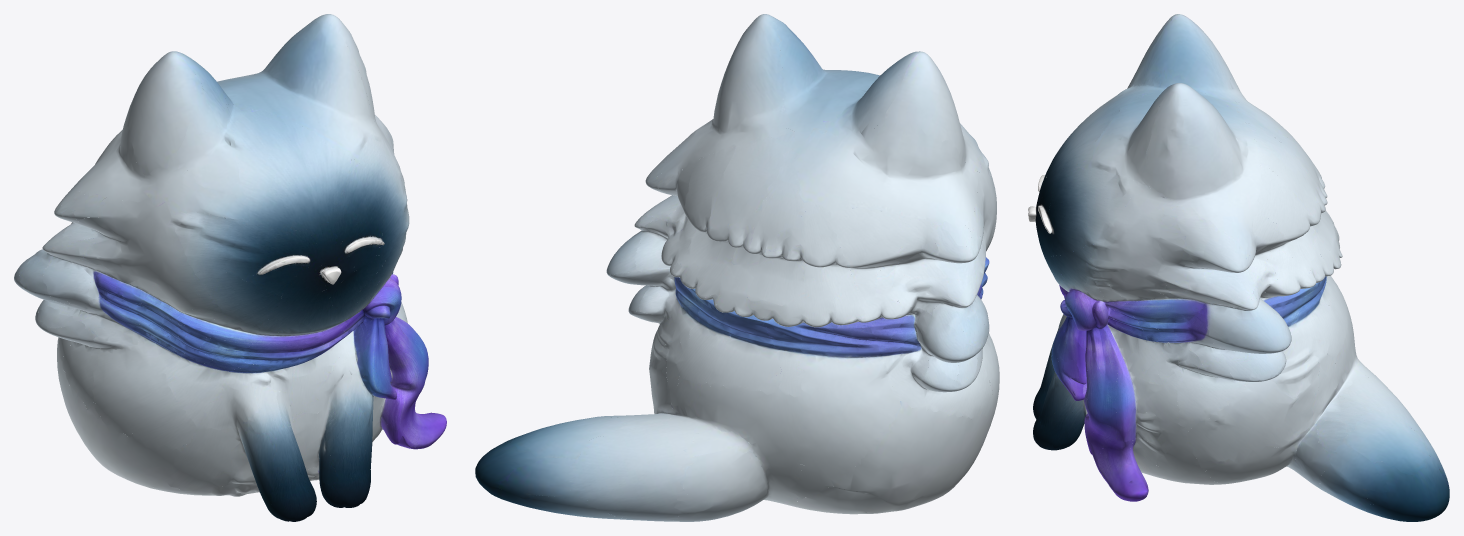
File: aurora-scarf-CDVtd_bl.glb
3 views of the same model, side by side, from view 1: azimuth 30°, elevation 25°; view 2: azimuth 150°, elevation 25°; view 3: azimuth 270°, elevation 25° (orthographic). The views are drawn at different scales.
Visible parts, largest first — view 1: worn-aurora-scarf; view 2: worn-aurora-scarf; view 3: worn-aurora-scarf.
Part boxes in pixels (left/top/right/bottom): worn-aurora-scarf: left=14, top=14, right=446, bottom=521; worn-aurora-scarf: left=475, top=14, right=999, bottom=521; worn-aurora-scarf: left=1028, top=14, right=1449, bottom=521.
Bounding box in the file's own units: 1.9 × 1.85 × 1.83.
Materials: 1 (1 with a texture image).
